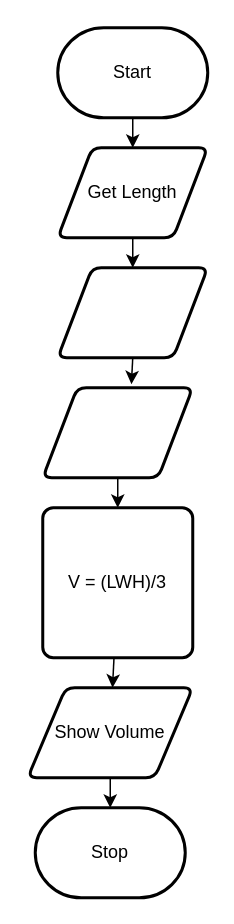
Some shapes in this 234 by 924 pixel diagram are drawn without their labels. Each missing label, with the centre of its shape:
"Get Height" goes at point 117,432.
"Get Width" goes at point 132,312.
